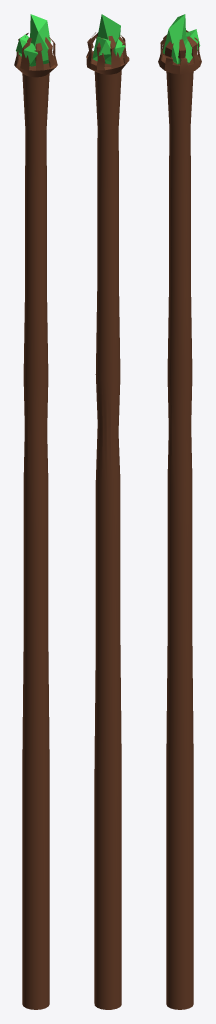
The model's file is Staff.fbx.
3 renders of one model, left to right at view 1: azimuth 90°, elevation 25°; view 2: azimuth 150°, elevation 25°; view 3: azimuth 270°, elevation 25°, orthographic.
Parts seen in each view (by area): view 1: Staff, Icosphere.004, Icosphere.005, Icosphere.003; view 2: Staff, Icosphere.004, Icosphere.003, Icosphere.005; view 3: Staff, Icosphere.004, Icosphere.003.
Boxes of the visible parts, bbox=[...] form: Staff: bbox=[14, 33, 57, 1009]; Icosphere.004: bbox=[30, 14, 50, 66]; Icosphere.005: bbox=[23, 43, 37, 66]; Icosphere.003: bbox=[16, 34, 31, 56]; Staff: bbox=[86, 32, 129, 1009]; Icosphere.004: bbox=[97, 14, 120, 42]; Icosphere.003: bbox=[92, 37, 110, 63]; Icosphere.005: bbox=[105, 39, 125, 64]; Staff: bbox=[158, 30, 201, 1009]; Icosphere.004: bbox=[163, 14, 185, 64]; Icosphere.003: bbox=[178, 29, 200, 63].
Size of the model in its own units: 6.33 by 159 by 6.36.
